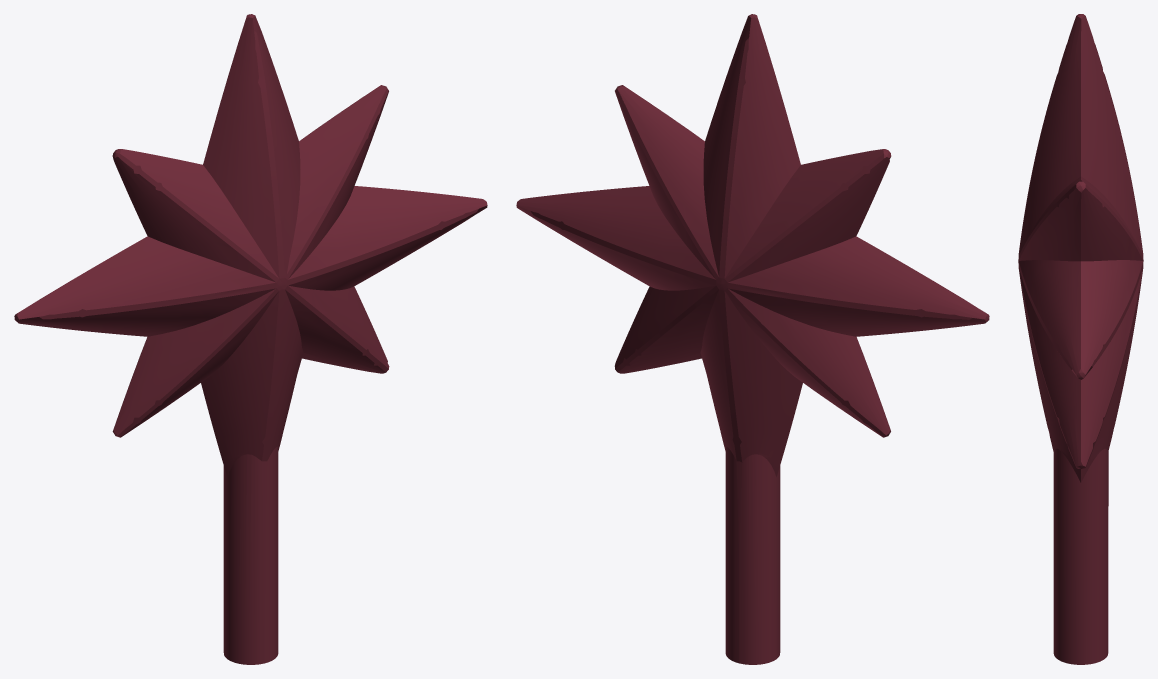
Rendered from red_glossy.glb.
3 views of the same model, side by side, from view 1: azimuth 30°, elevation 25°; view 2: azimuth 150°, elevation 25°; view 3: azimuth 270°, elevation 25° (orthographic).
Visible parts, largest first — view 1: small_star; view 2: small_star; view 3: small_star.
Boxes of the visible parts, x1,y1,x2,y2 form: small_star: (14,14,487,664); small_star: (516,14,989,664); small_star: (1018,14,1143,664).
Size of the model in its own units: 0.17 by 0.22 by 0.039.
